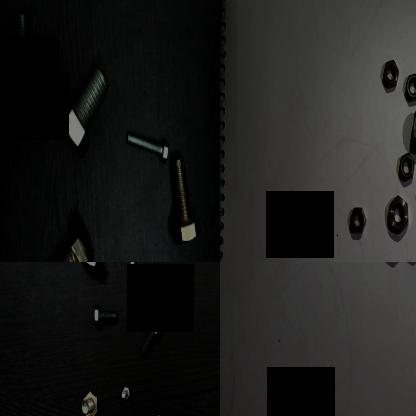Bolts: (53, 62, 110, 166), (164, 147, 200, 247), (33, 212, 96, 262), (5, 12, 40, 90), (126, 124, 171, 168), (136, 318, 162, 362), (127, 262, 151, 304), (91, 300, 119, 330), (78, 385, 102, 416), (77, 262, 109, 279), (118, 386, 130, 406)
NUTS: (385, 194, 411, 238), (381, 56, 399, 94), (347, 203, 367, 237), (398, 150, 416, 183), (404, 67, 416, 107), (409, 108, 416, 154)
